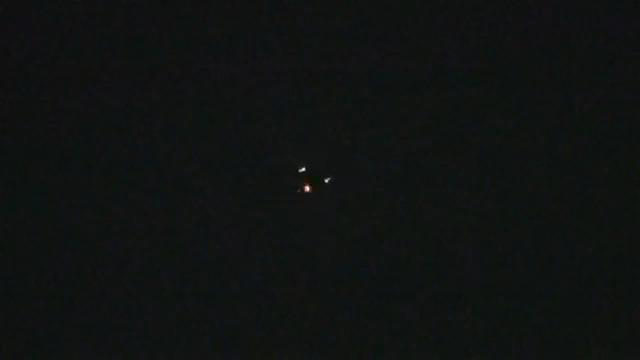Plane: (272, 160, 345, 204)
